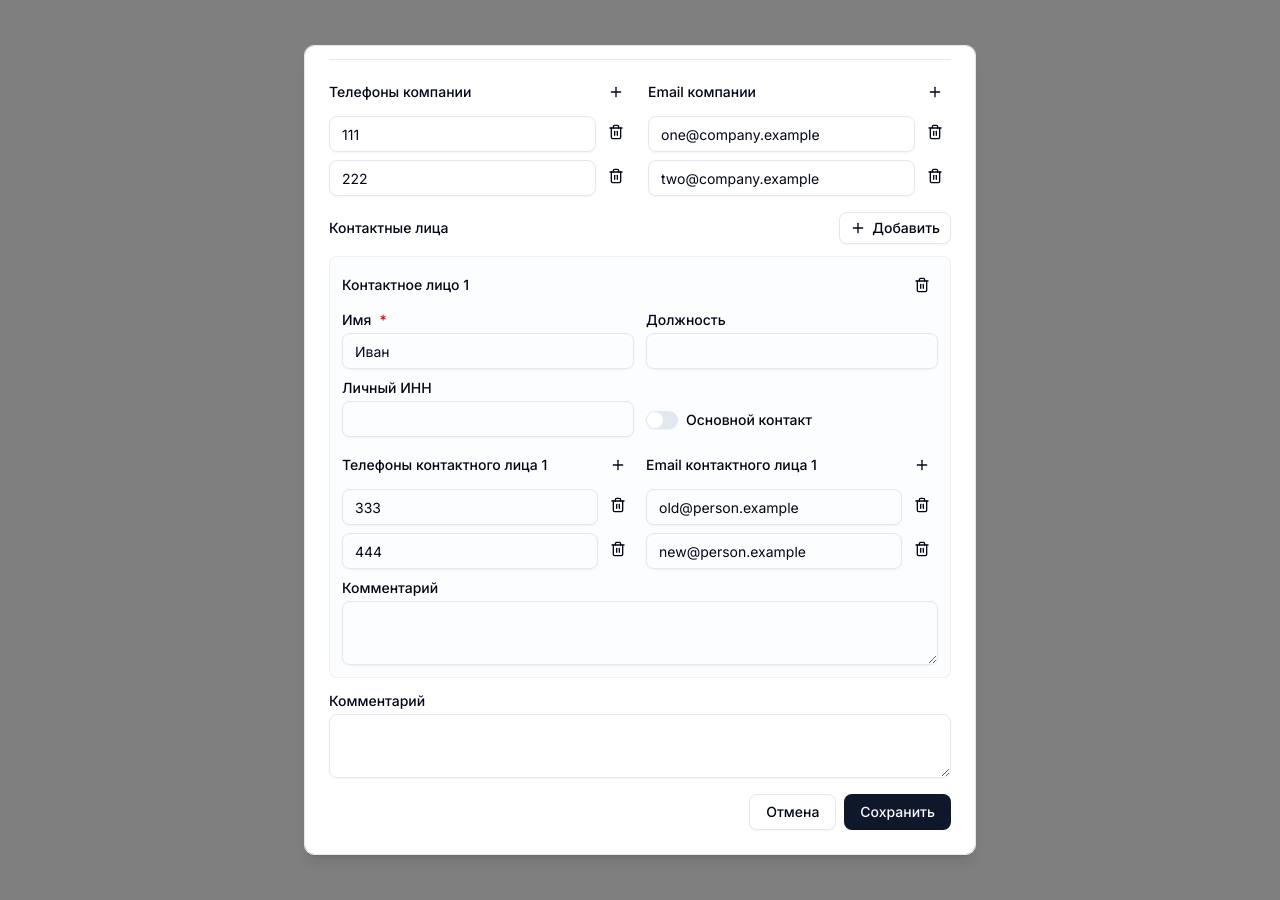
Scenario: проверяет каждый email, а не только первый
(page scrolled)
Replace the text in the field showing "new@person.example" with "invalid" at (774, 551), box [646,533,902,569]
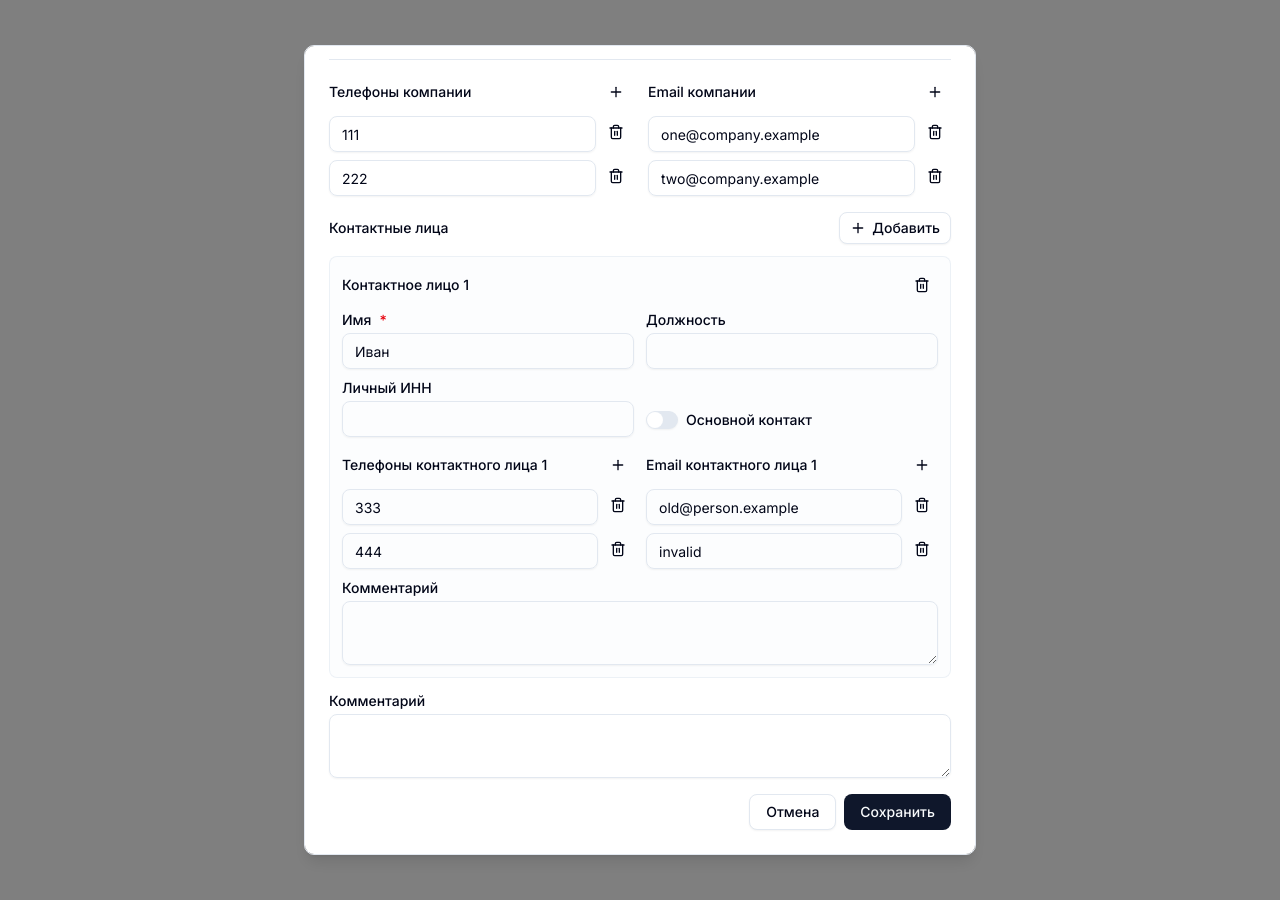
Click the button "Сохранить" at (898, 812), box [844,794,951,830]
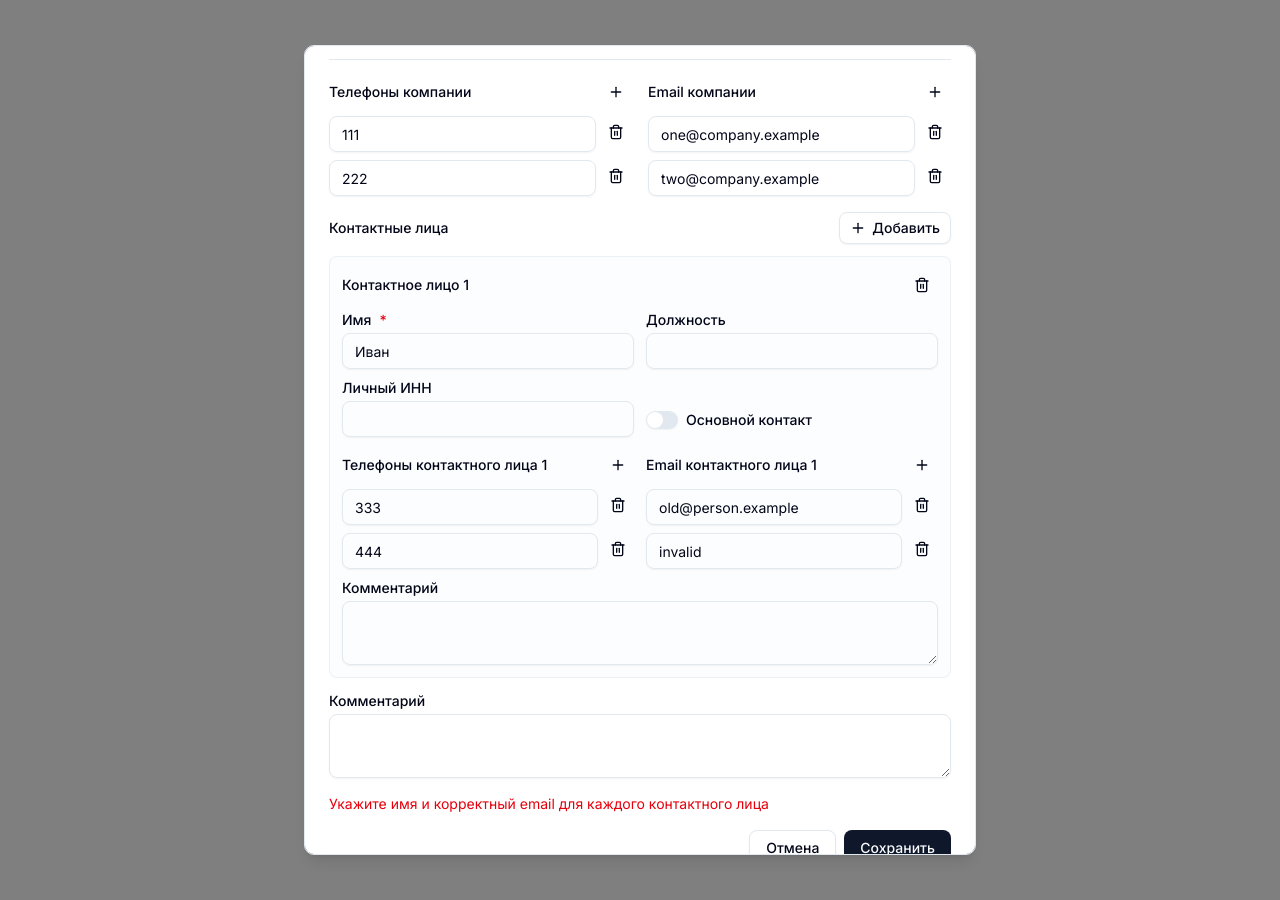
Now the text "Укажите имя и корректный email для каждого контактного лица" is shown, box [329,795,769,812]
